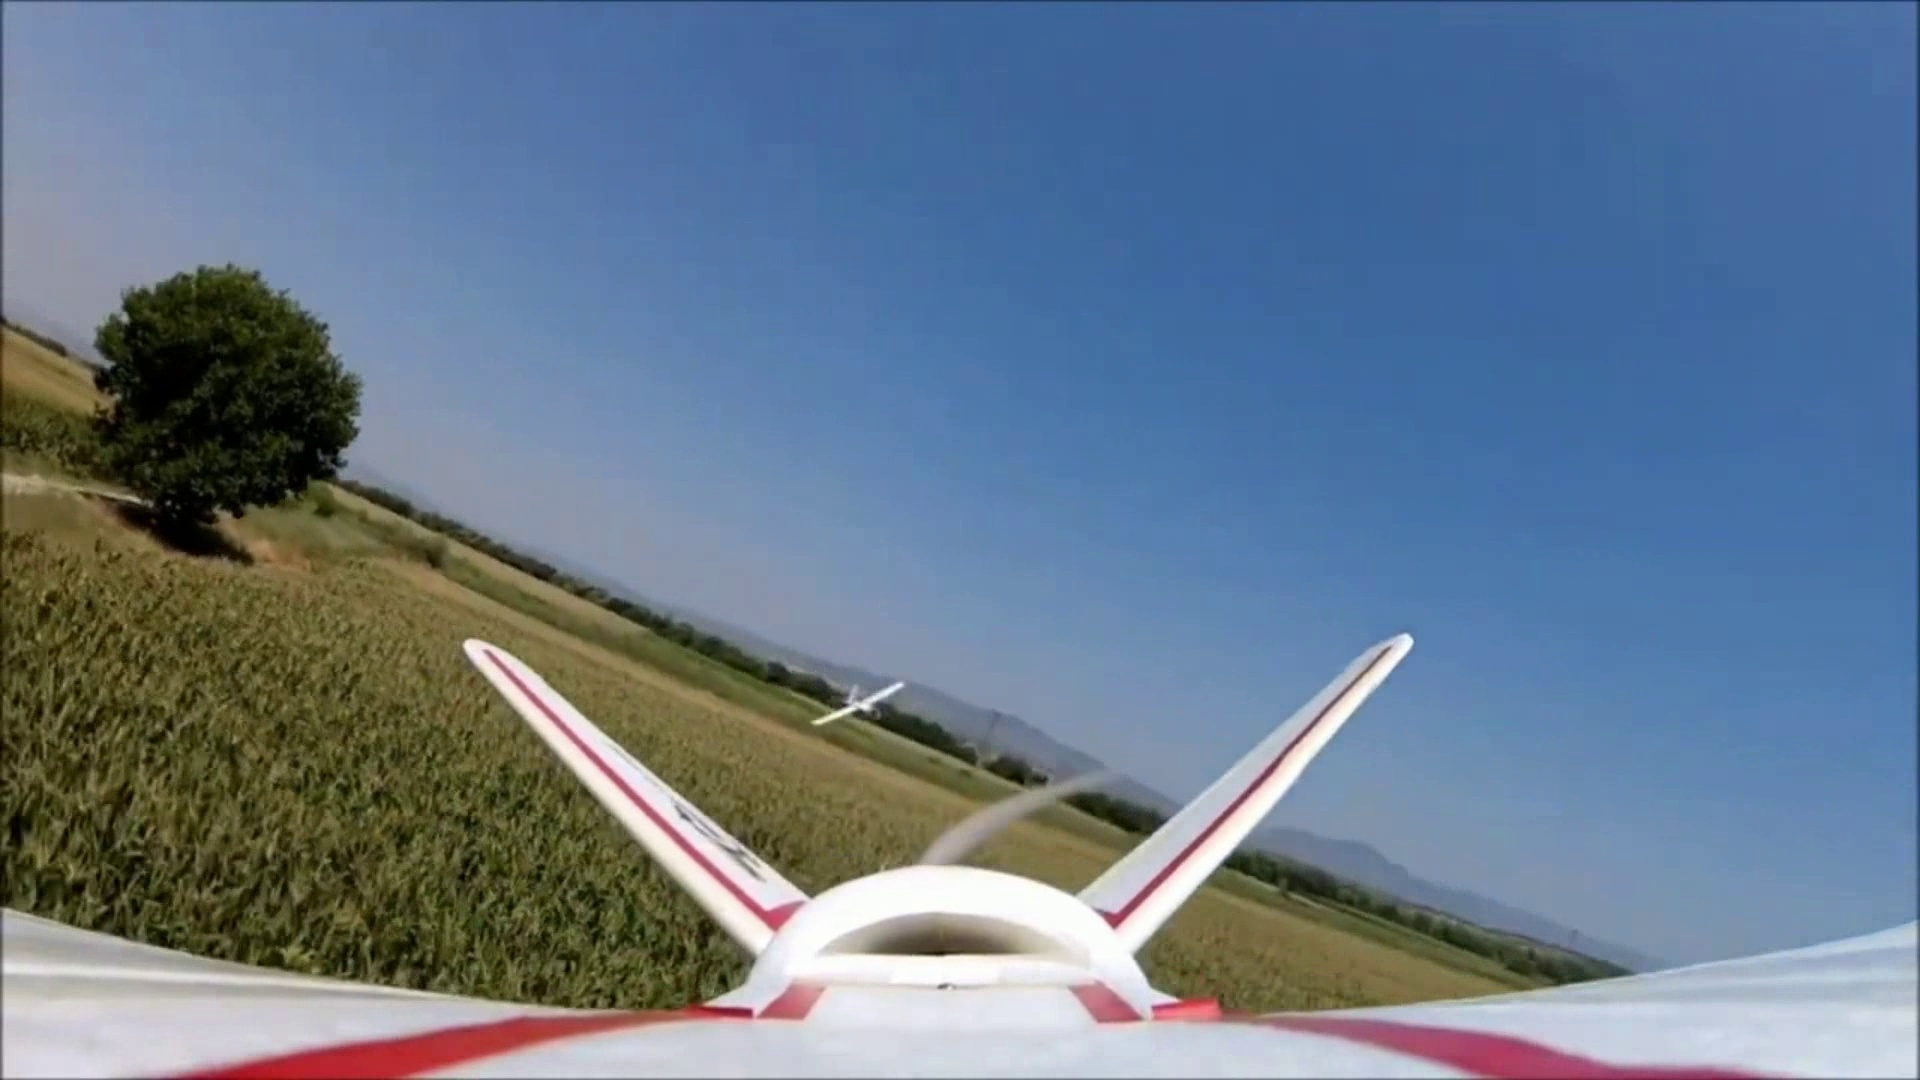airplane: (32, 611, 1890, 1066)
